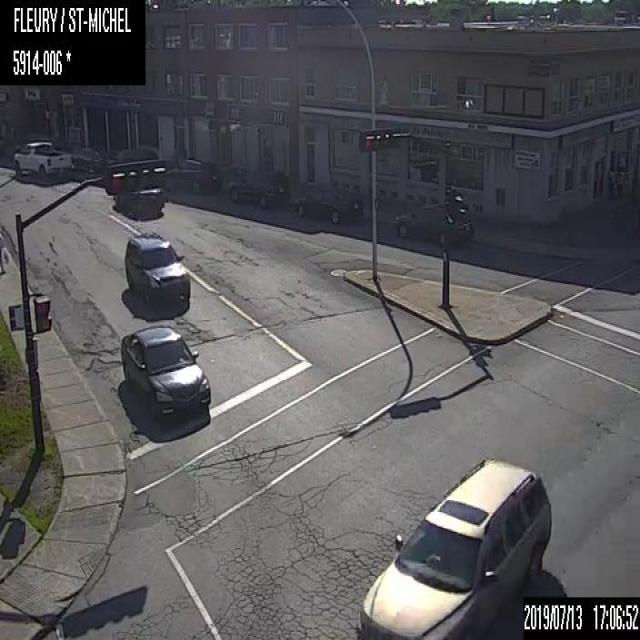pedestrian: (0, 232, 9, 272)
vehicle: (355, 456, 550, 639), (119, 323, 211, 421), (122, 231, 189, 308), (394, 202, 472, 246), (226, 165, 289, 207), (294, 187, 362, 225), (12, 140, 72, 180), (167, 157, 218, 195)
